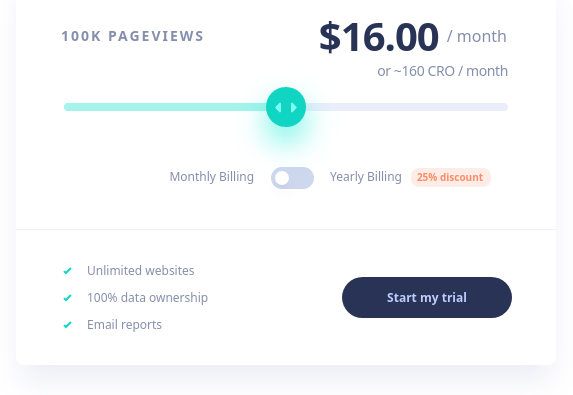
<PricingCardSlider /> › should apply a 25% discount on prices when the switch is on
Click the switch: (292, 178) [271,167,314,189]
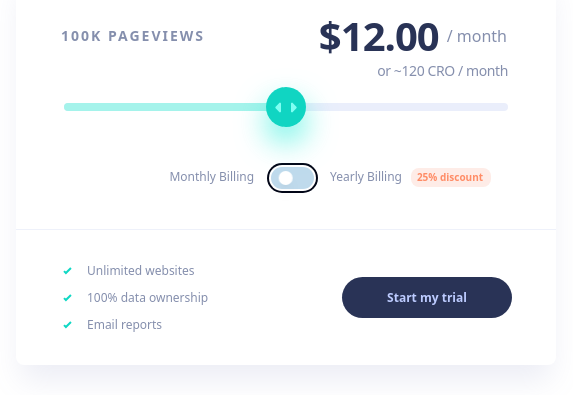
Expected: the text "$12.00" is shown, [319,16,439,56]
Expected: the text "or ~120 CRO" is shown, [377,61,458,80]
